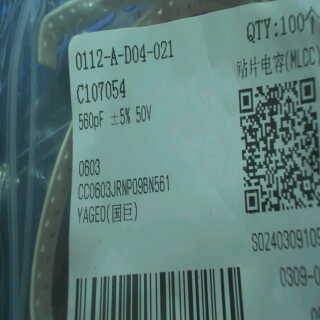560pF: (74, 108, 108, 134)
